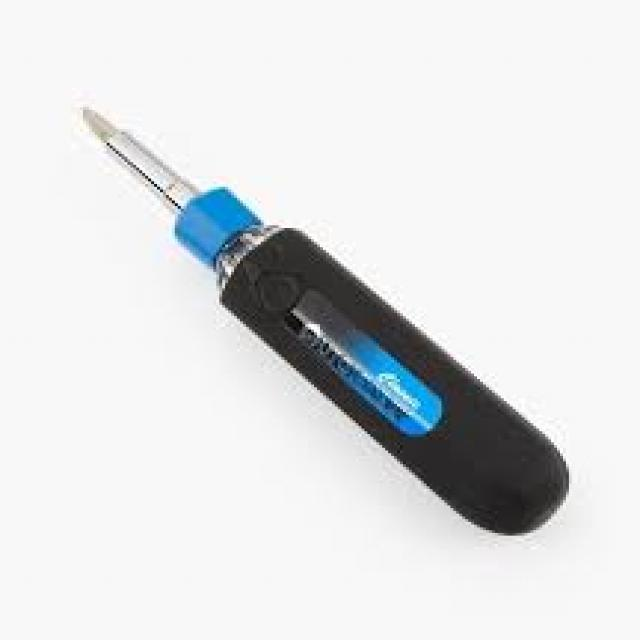screwdriver: (67, 79, 592, 558)
